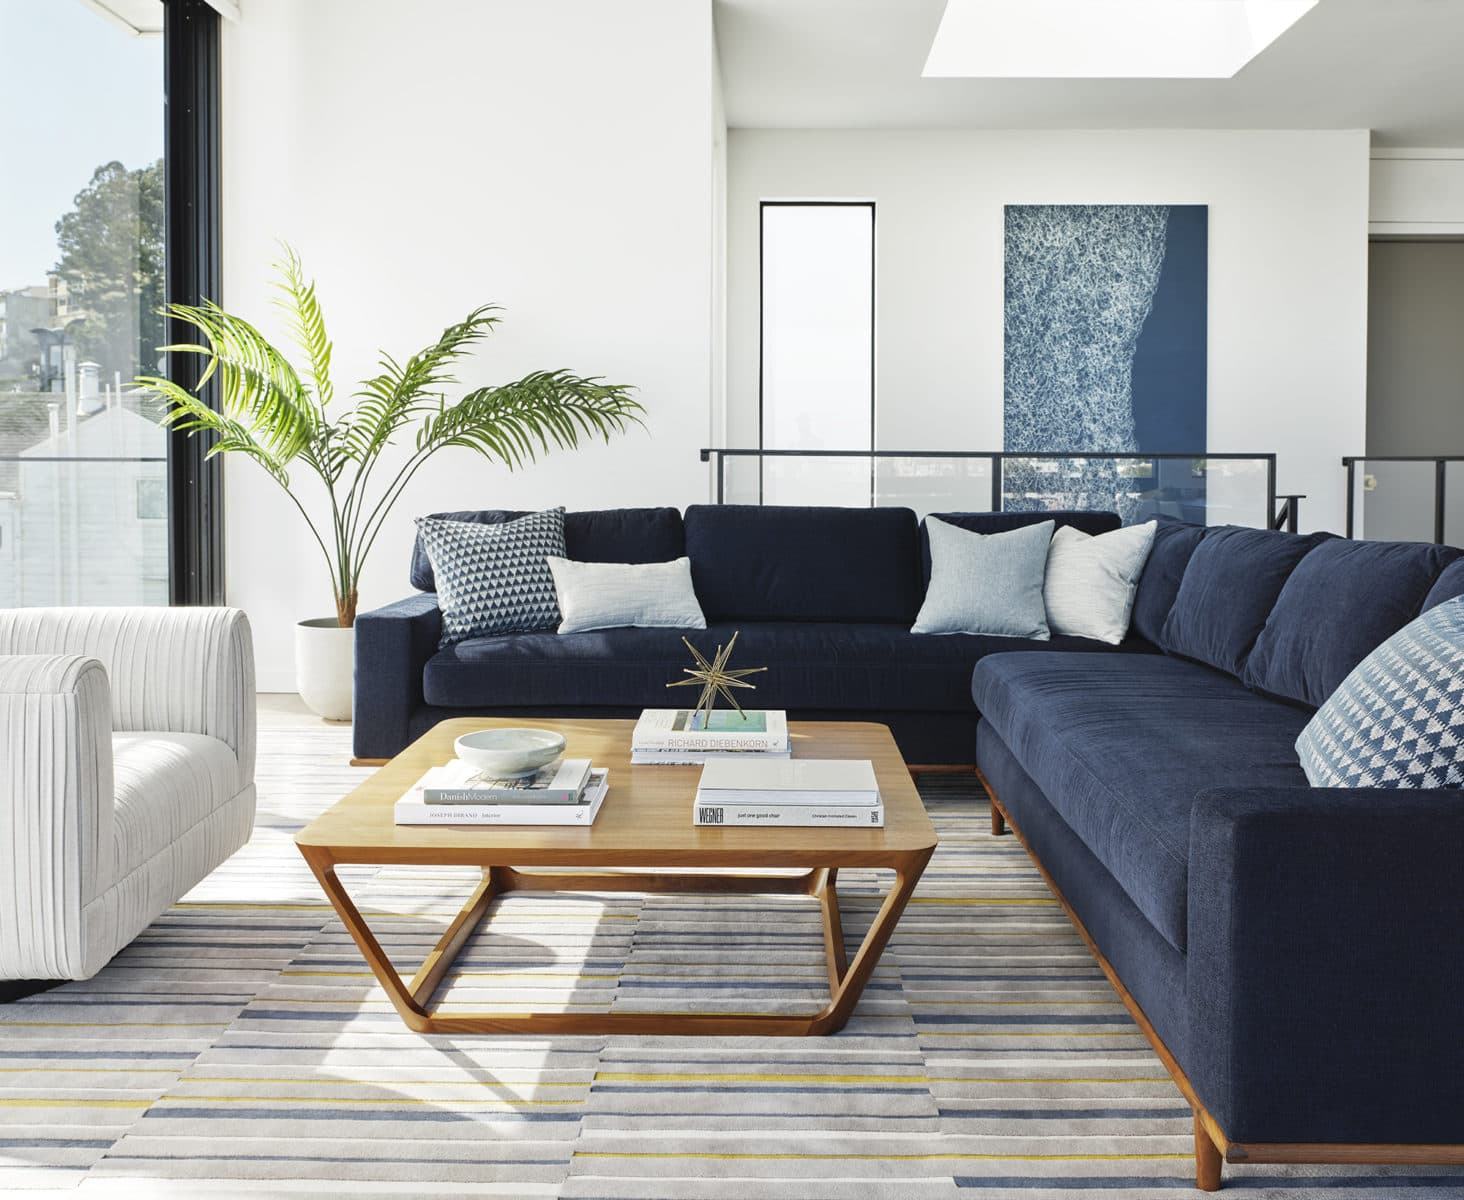biru: (927, 517, 1044, 633), (1034, 524, 1152, 641), (544, 559, 706, 633)
coklat: (314, 715, 919, 1031)
hitam: (1144, 530, 1464, 1119), (357, 509, 976, 710)
putih: (9, 601, 255, 984), (294, 621, 356, 725), (458, 728, 562, 774)
